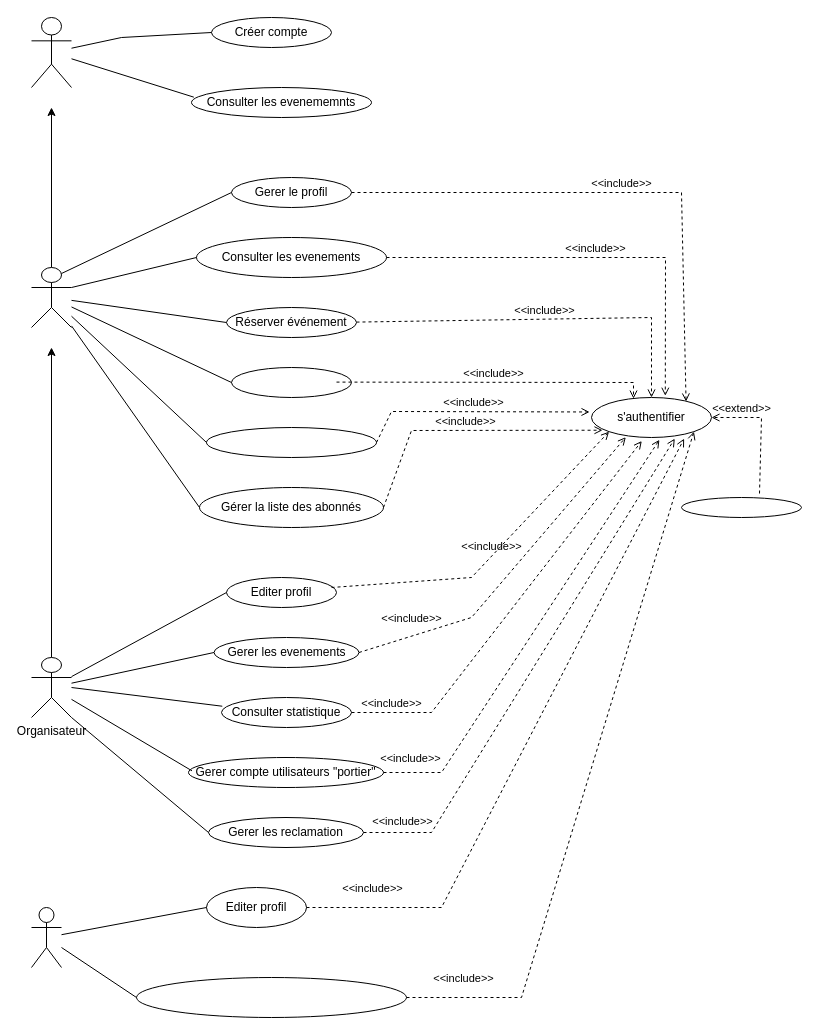
Some shapes in this 819 by 1035 pixel diagram are drawn without their labels. Each missing label, with the centre of its shape:
"Agent" goes at (46,937).
"Client" goes at (51,297).
"Consulter la list des evenements superviser" goes at (271,997).
"consulter liste ludification" goes at (291,442).
"Deconnecter" goes at (741,507).
"Gestion panier" goes at (291,382).
"Visiteur" goes at (51,52).
